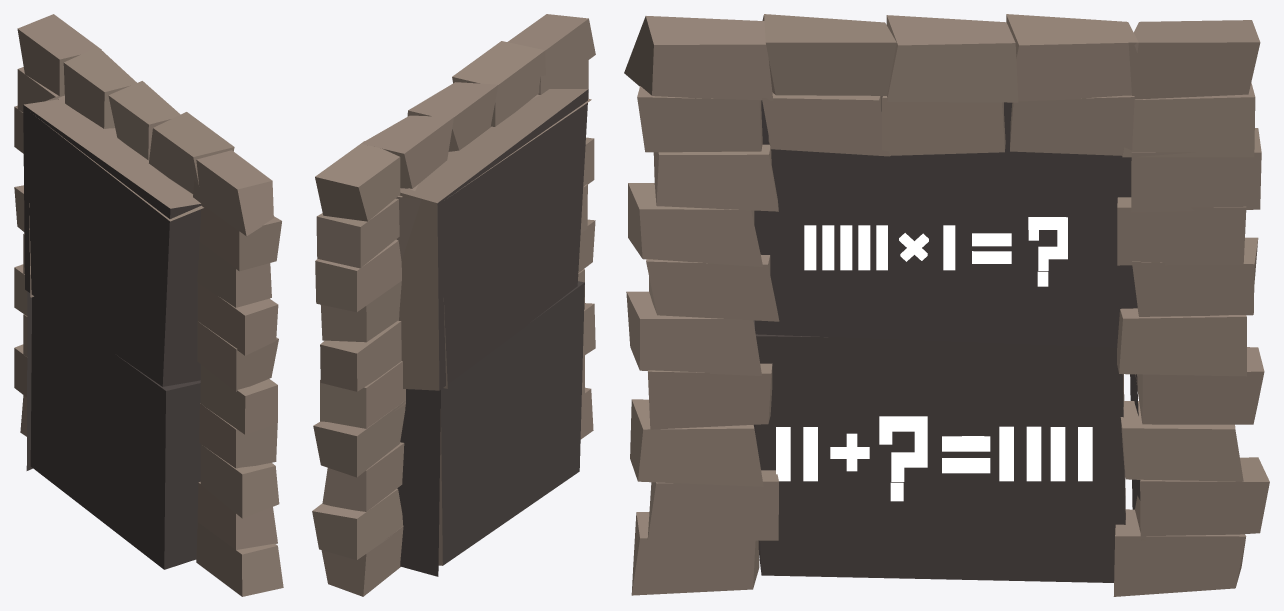
Rendered from Puzzle Wall 3.fbx.
3 renders of one model, left to right at view 1: azimuth 30°, elevation 25°; view 2: azimuth 150°, elevation 25°; view 3: azimuth 270°, elevation 25°, orthographic. The views are drawn at different scales.
Visible parts, largest first — view 1: Cube.019; view 2: Cube.019; view 3: Cube.019.
Boxes of the visible parts, x1,y1,x2,y2 form: Cube.019: [14, 14, 283, 596]; Cube.019: [312, 14, 595, 596]; Cube.019: [624, 14, 1269, 596].
Size of the model in its own units: 409 by 2063 by 2177.
